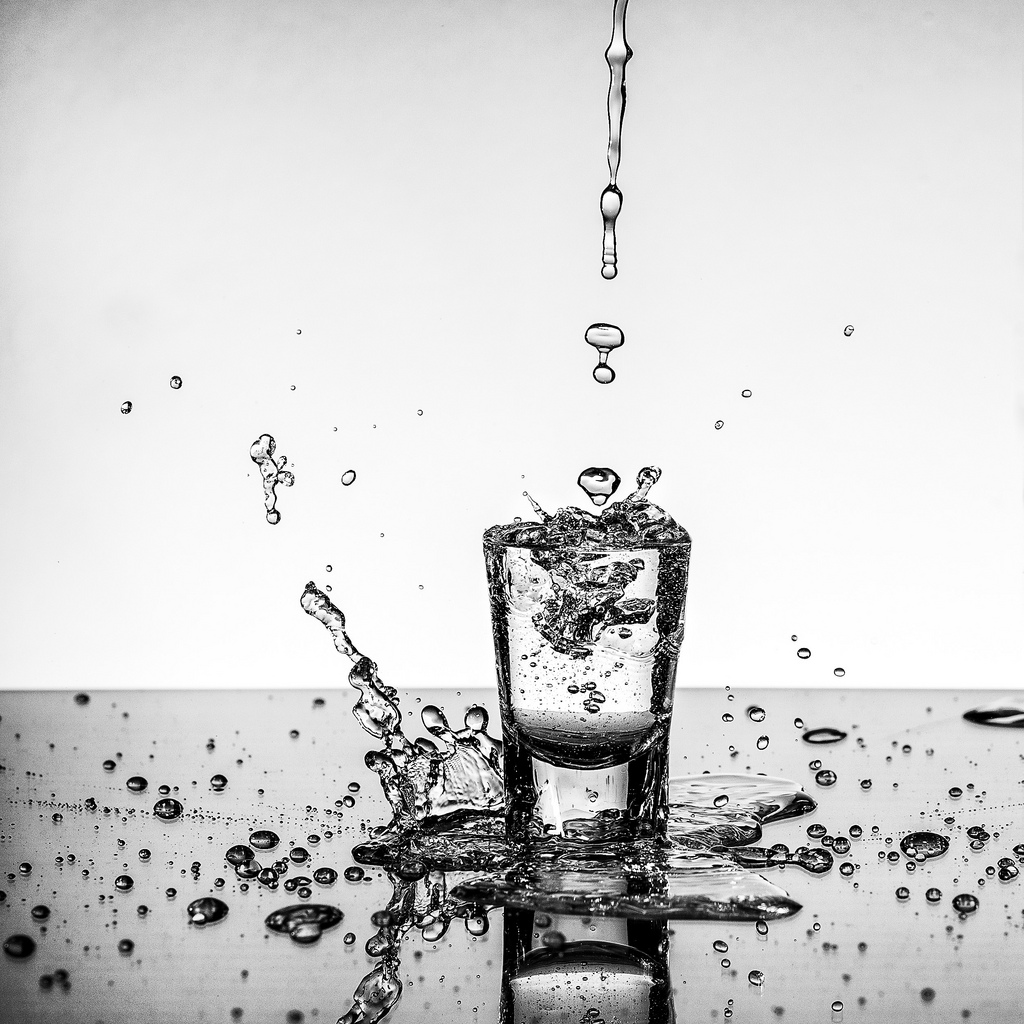glass of water: (477, 519, 686, 779)
